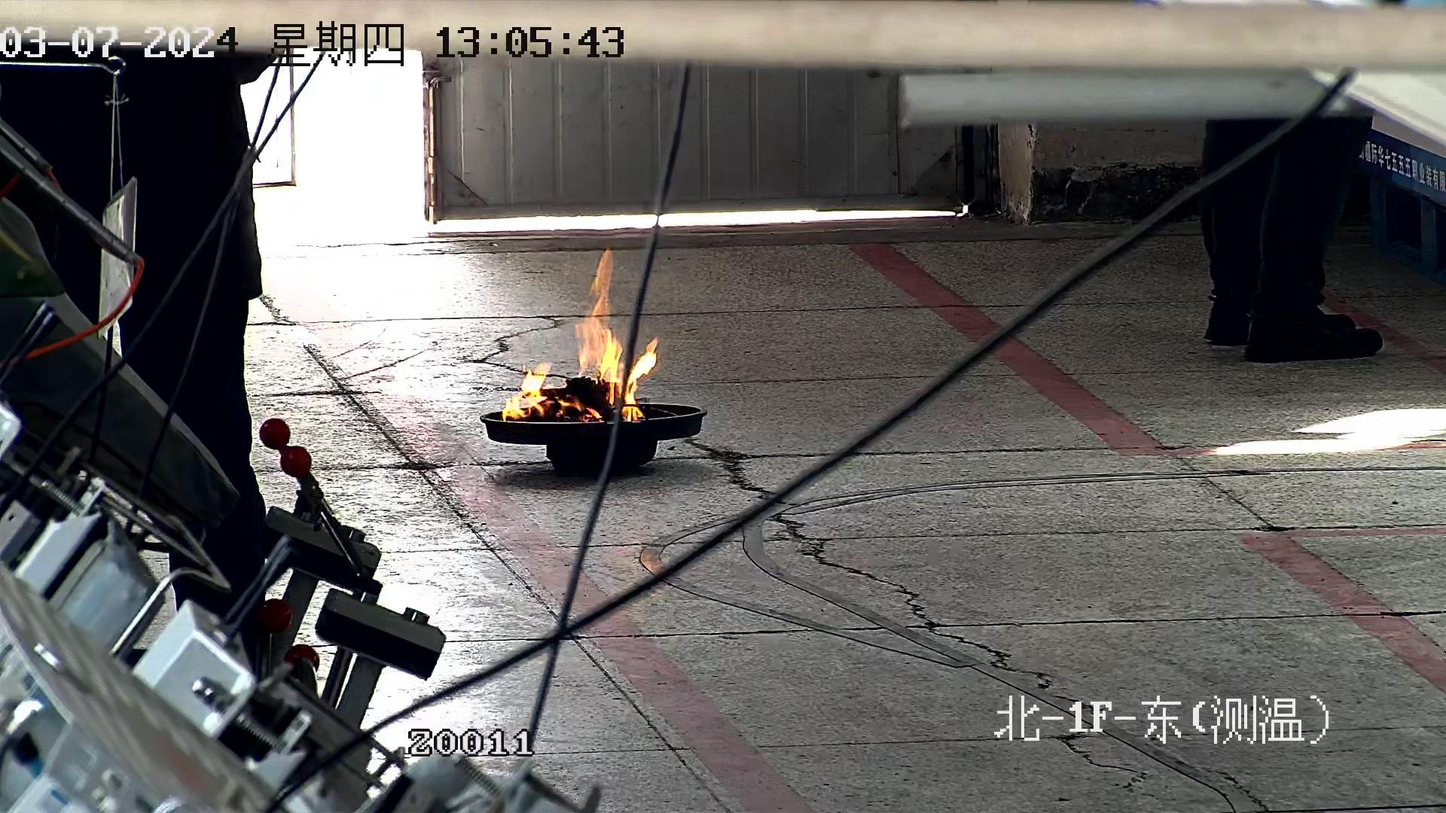fire: (502, 248, 657, 421)
